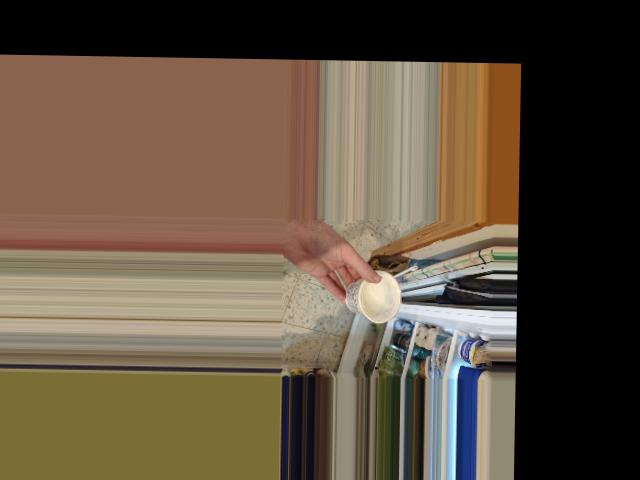cotage: (342, 277, 407, 315)
